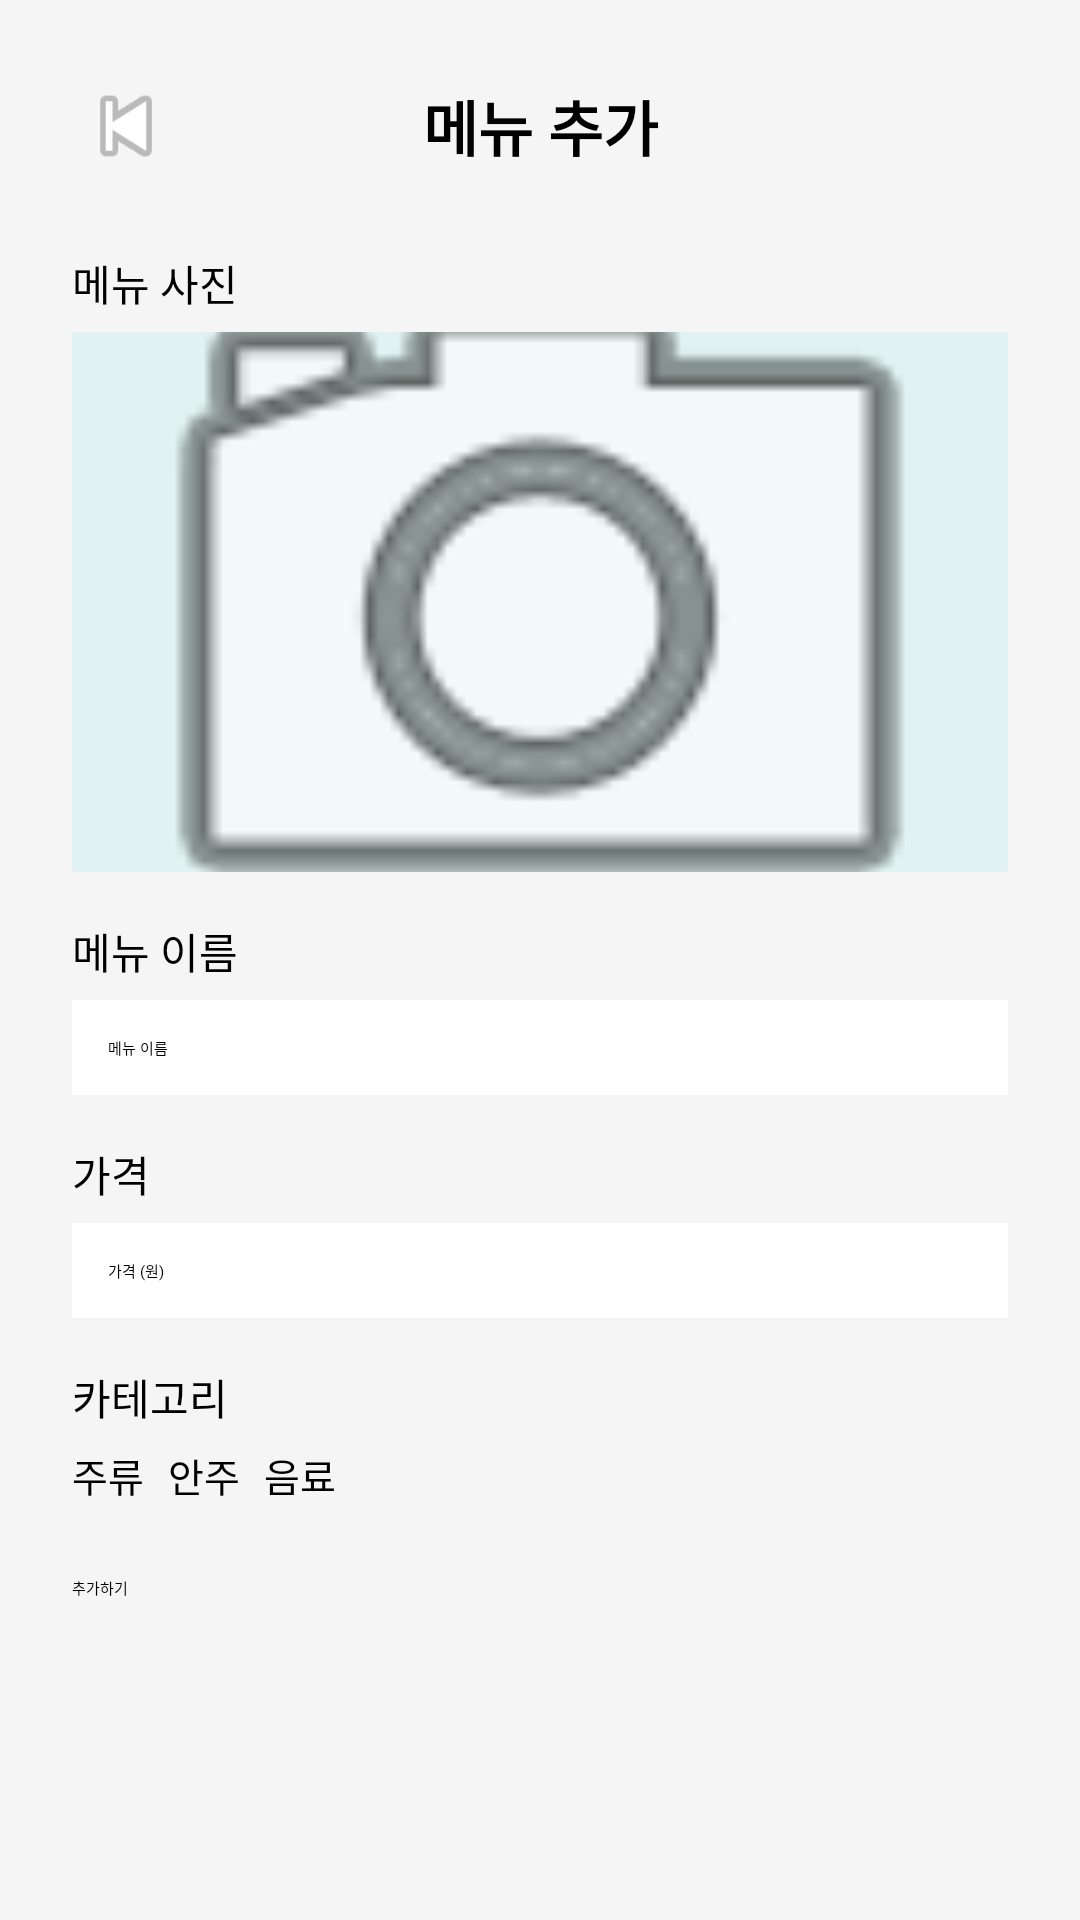

Named icons in this screenshot (1080px×1920px) and their bounding boxes, rect(x1, y1, x2, y2):
previous: rect(100, 95, 152, 157)
